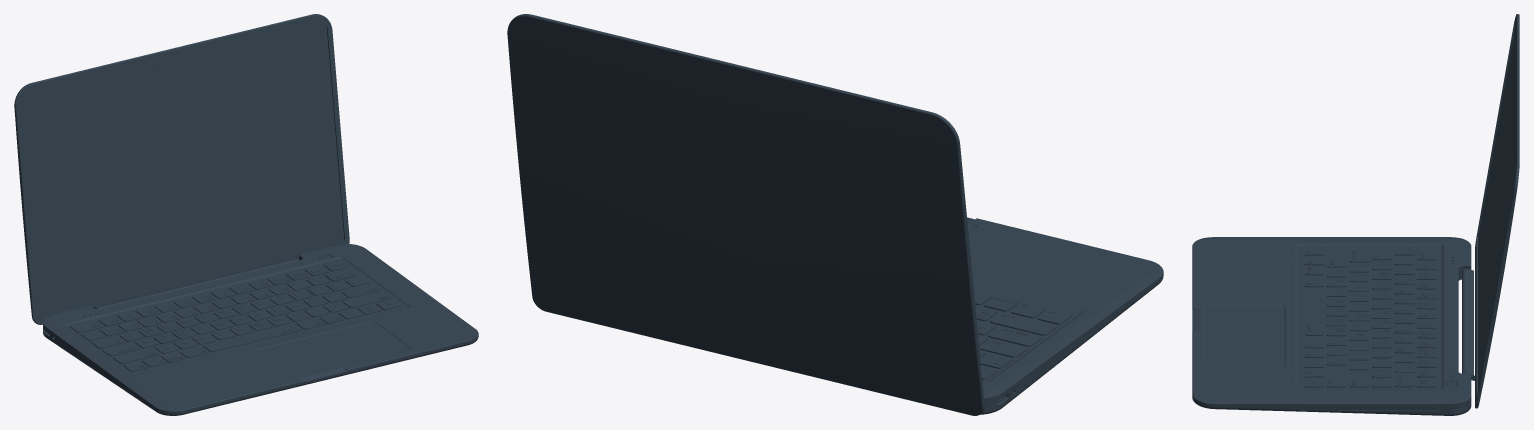
Rendered from laptop.glb.
3 views of the same model, side by side, from view 1: azimuth 30°, elevation 25°; view 2: azimuth 150°, elevation 25°; view 3: azimuth 270°, elevation 25° (orthographic). The views are drawn at different scales.
Size of the model in its own units: 3 by 2.06 by 2.49.
